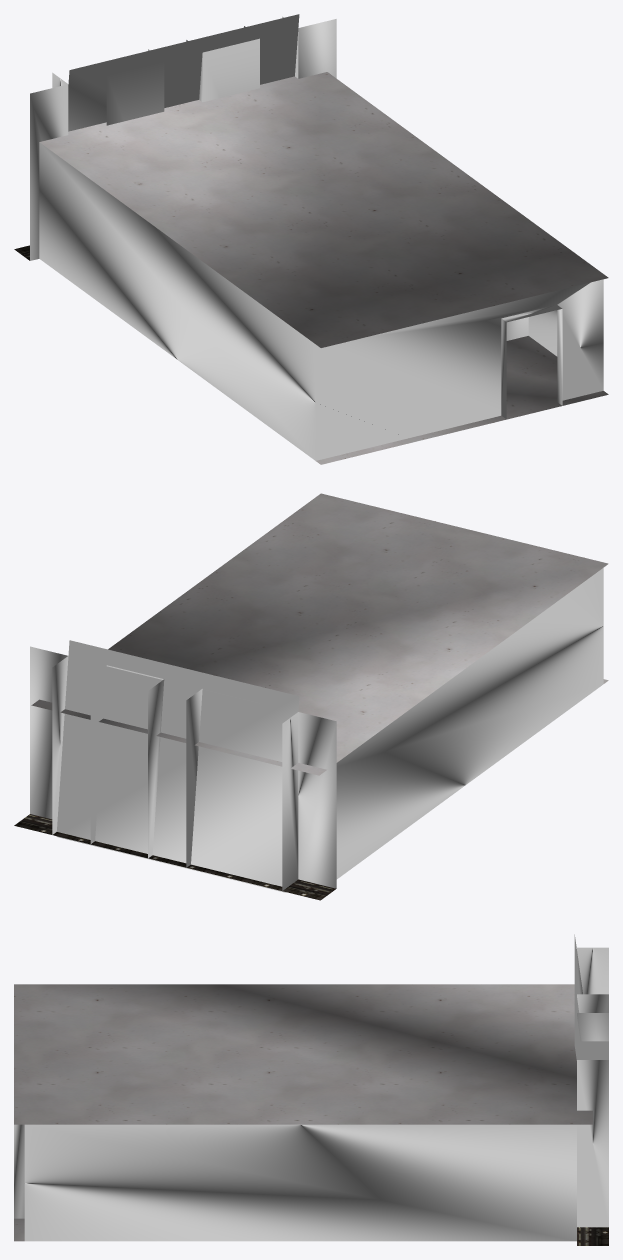
The model's file is room1archive.obj.
3 renders of one model, top to bottom at view 1: azimuth 30°, elevation 25°; view 2: azimuth 150°, elevation 25°; view 3: azimuth 270°, elevation 25°, orthographic.
Bounding box in the file's own units: 52.8 × 30.81 × 88.8.
